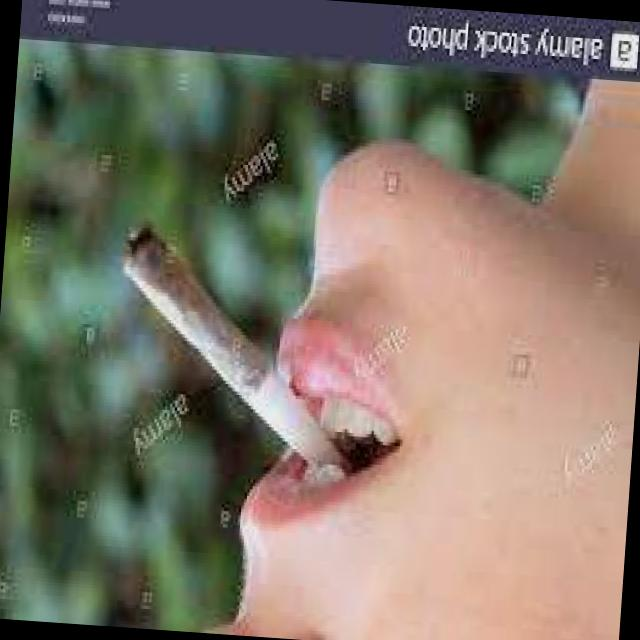smoke: (93, 225, 340, 464)
